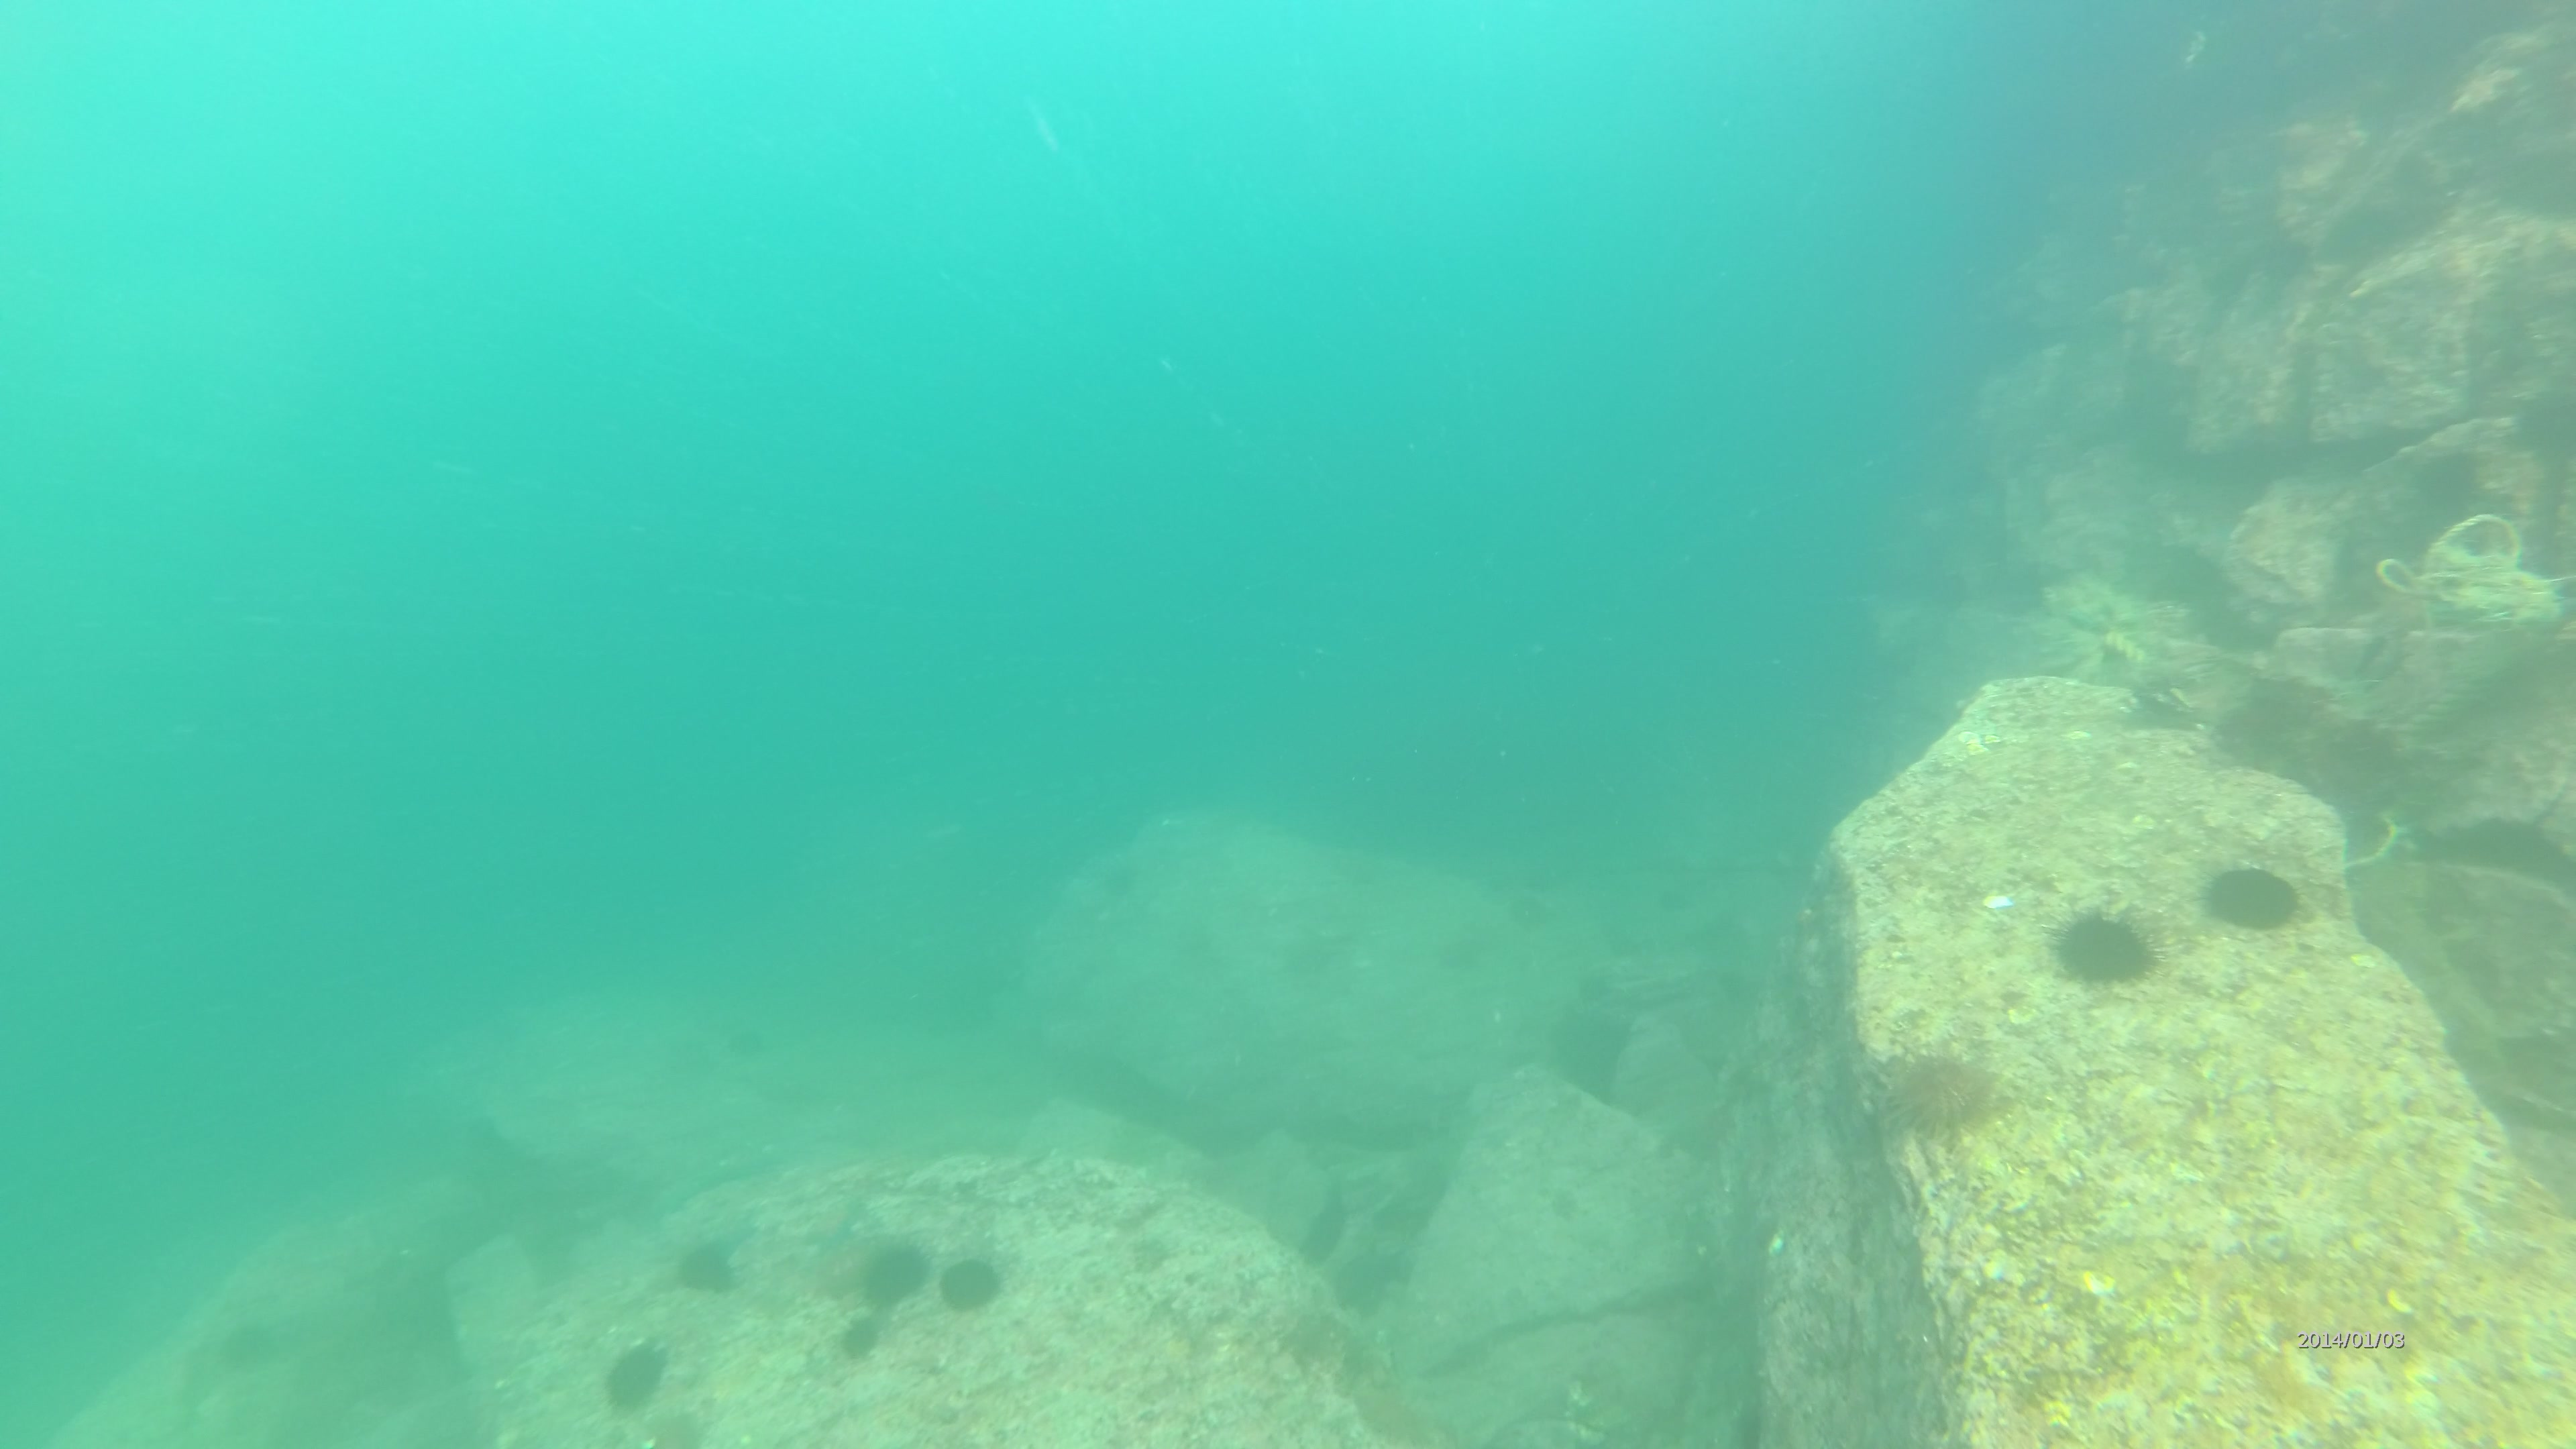echinus: (2043, 904, 2187, 998), (1874, 1046, 2003, 1145), (2192, 855, 2321, 941), (663, 1235, 750, 1299), (600, 1345, 679, 1414), (860, 1244, 938, 1304), (221, 1311, 290, 1369), (943, 1260, 1010, 1316), (828, 1307, 893, 1364)
